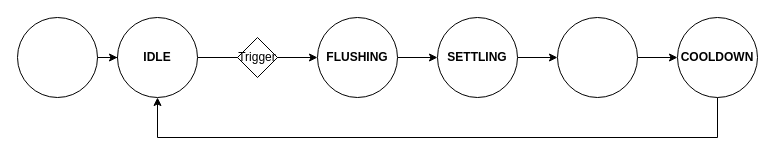
The diagram is 775 pixels wide and 163 high, and some of its shapes have lost their labels. The centre of each missing label's shape, as x and y in pixels:
"CAPTURING" goes at (597,57).
"INITIALISING" goes at (57,57).
